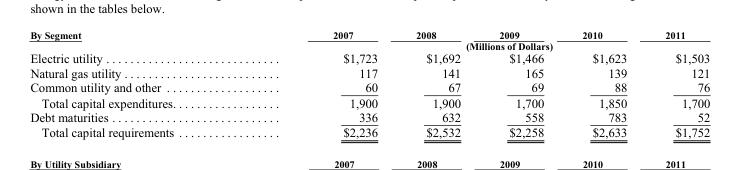table: (29, 29, 709, 139)
table column: (29, 29, 253, 139), (253, 29, 396, 139), (396, 29, 479, 139), (479, 29, 562, 139), (562, 29, 645, 139), (645, 29, 709, 139)
table column header: (29, 29, 709, 51)
table row: (29, 79, 709, 94), (29, 94, 709, 109), (29, 109, 709, 124), (29, 124, 709, 139), (29, 51, 709, 65), (29, 65, 709, 79), (29, 29, 709, 40), (29, 40, 709, 51)
table spanning cell: (253, 40, 709, 51), (29, 29, 253, 51)
